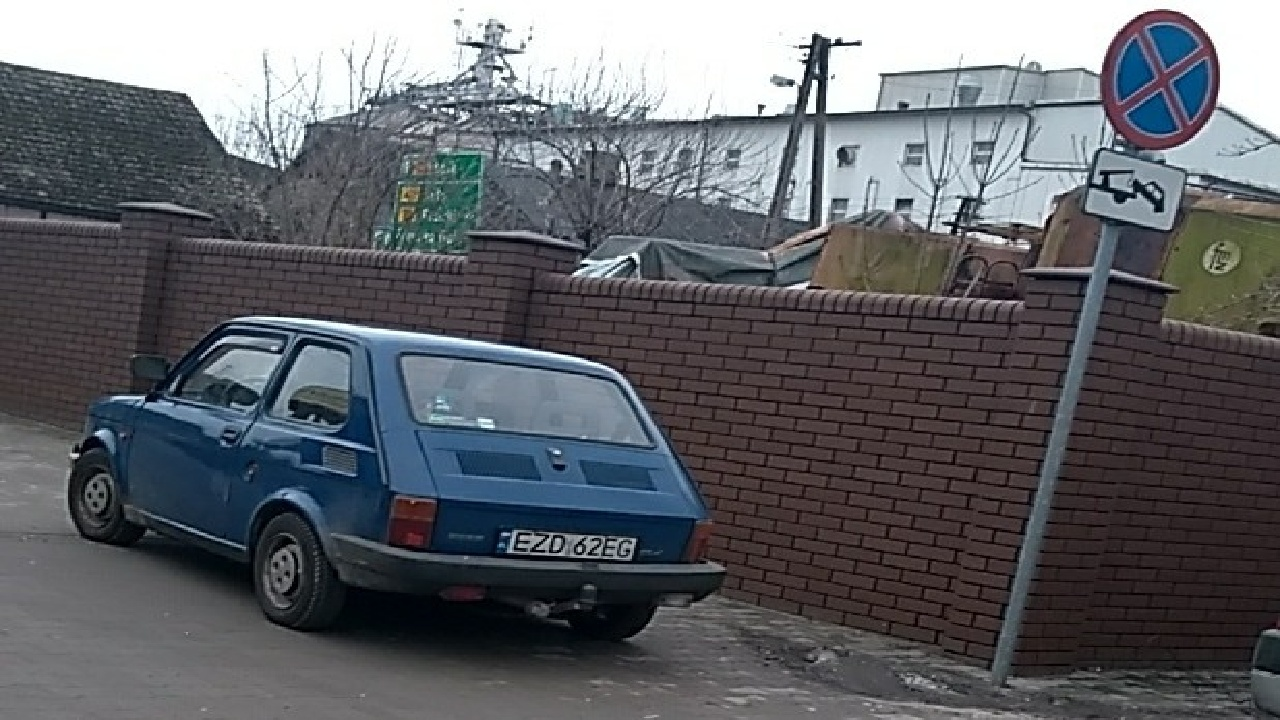B36: (1101, 10, 1222, 150)
